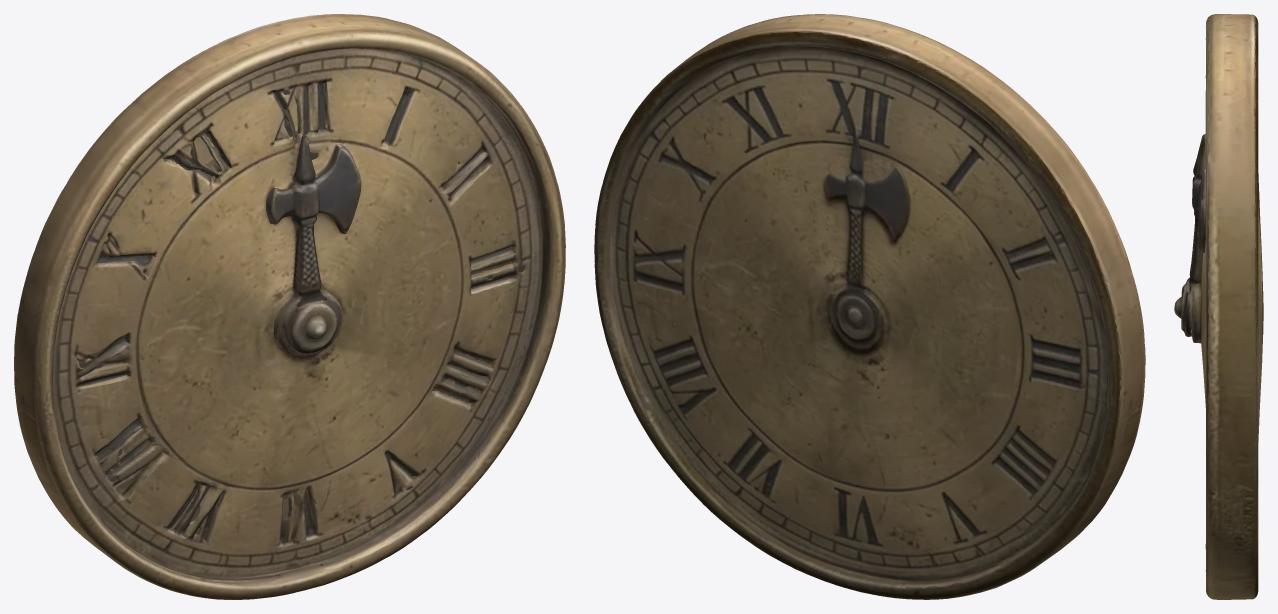
The model's file is obj_basement_dial_2.glb.
The picture shows the model from 3 angles, left to right: view 1: azimuth 30°, elevation 25°; view 2: azimuth 150°, elevation 25°; view 3: azimuth 270°, elevation 25°; orthographic projection. The views are drawn at different scales.
Visible parts, largest first — view 1: geometry_0; view 2: geometry_0; view 3: geometry_0.
Part boxes in pixels (left/top/right/bottom): geometry_0: left=14, top=14, right=565, bottom=599; geometry_0: left=594, top=14, right=1145, bottom=599; geometry_0: left=1174, top=14, right=1263, bottom=599.
Size of the model in its own units: 0.15 by 0.1499 by 0.023.
Materials: 1 (1 with a texture image).
